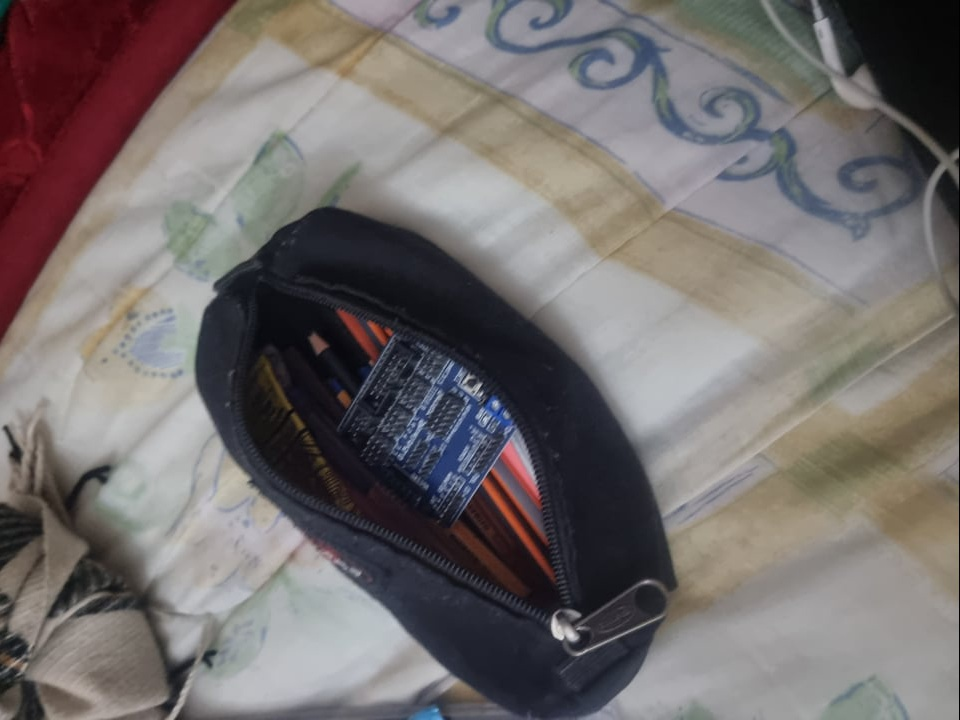5V EXPANSION: (338, 330, 516, 528)
